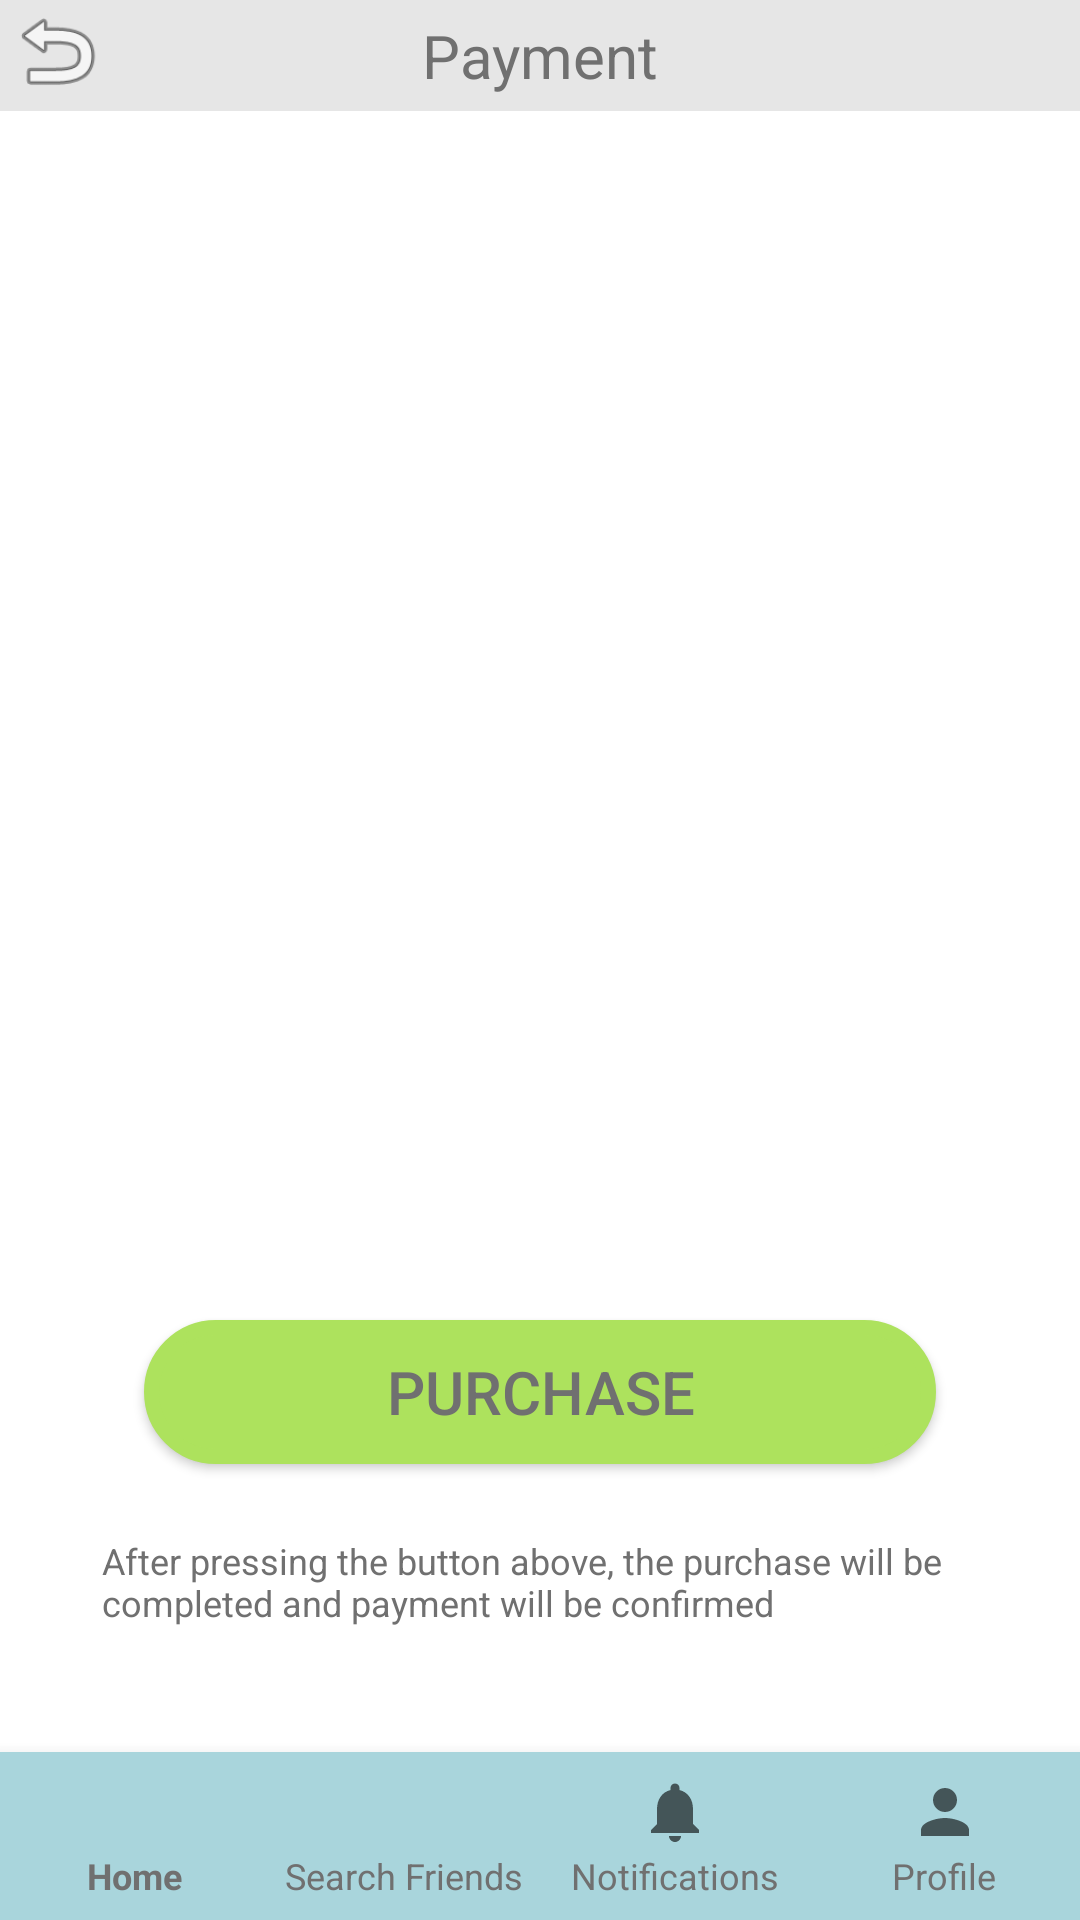

Icon click points for this 1080 x 1920 phone screenshot, format (x,y):
revert: (58,51)
